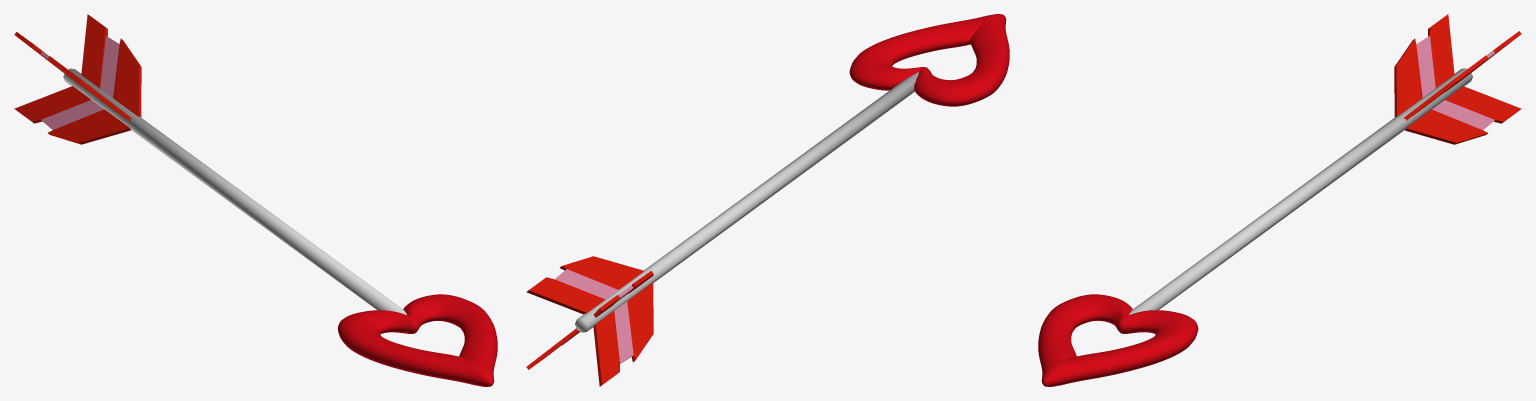
The model's file is Pfeil.fbx.
The picture shows the model from 3 angles, left to right: view 1: azimuth 30°, elevation 25°; view 2: azimuth 150°, elevation 25°; view 3: azimuth 330°, elevation 25°; orthographic projection.
Visible parts, largest first — view 1: Pfeilspitze, Pfeilfeder2, Pfeilstock, Pfeilfeder1; view 2: Pfeilspitze, Pfeilfeder2, Pfeilstock, Pfeilfeder1; view 3: Pfeilspitze, Pfeilfeder1, Pfeilstock, Pfeilfeder2.
Part boxes in pixels (box(x1,y1,x2,y2)): Pfeilspitze: box(337, 294, 497, 386); Pfeilfeder2: box(14, 14, 141, 144); Pfeilstock: box(63, 68, 406, 314); Pfeilfeder1: box(14, 32, 131, 121); Pfeilspitze: box(849, 14, 1009, 106); Pfeilfeder2: box(526, 256, 653, 386); Pfeilstock: box(575, 72, 918, 332); Pfeilfeder1: box(526, 271, 653, 369); Pfeilspitze: box(1038, 294, 1198, 386); Pfeilfeder1: box(1394, 14, 1521, 144); Pfeilstock: box(1129, 68, 1472, 314); Pfeilfeder2: box(1403, 31, 1521, 120).
Size of the model in its own units: 872 by 495 by 4950.
